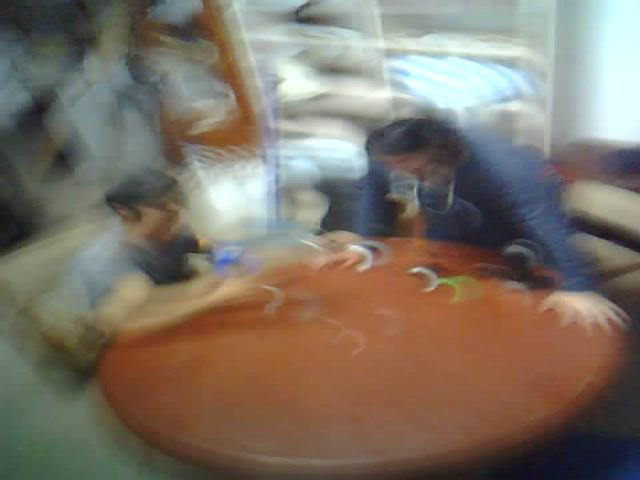person: (331, 81, 640, 339), (30, 131, 288, 359)
